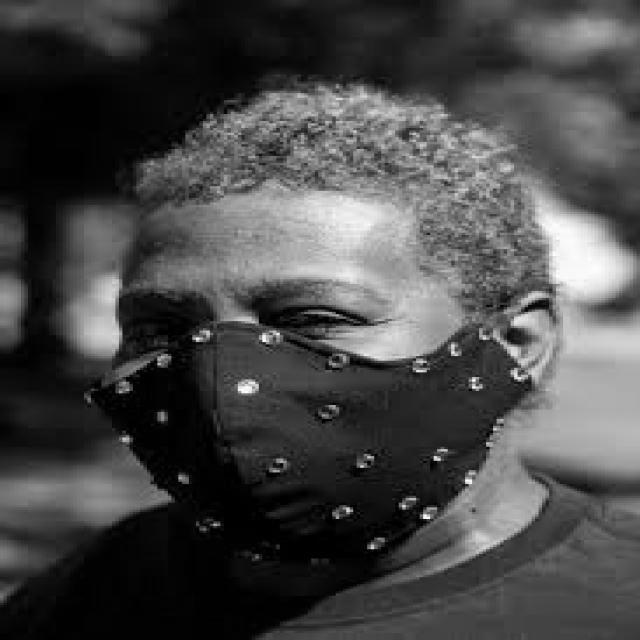fake: (83, 316, 535, 588)
real: (93, 195, 519, 594)
